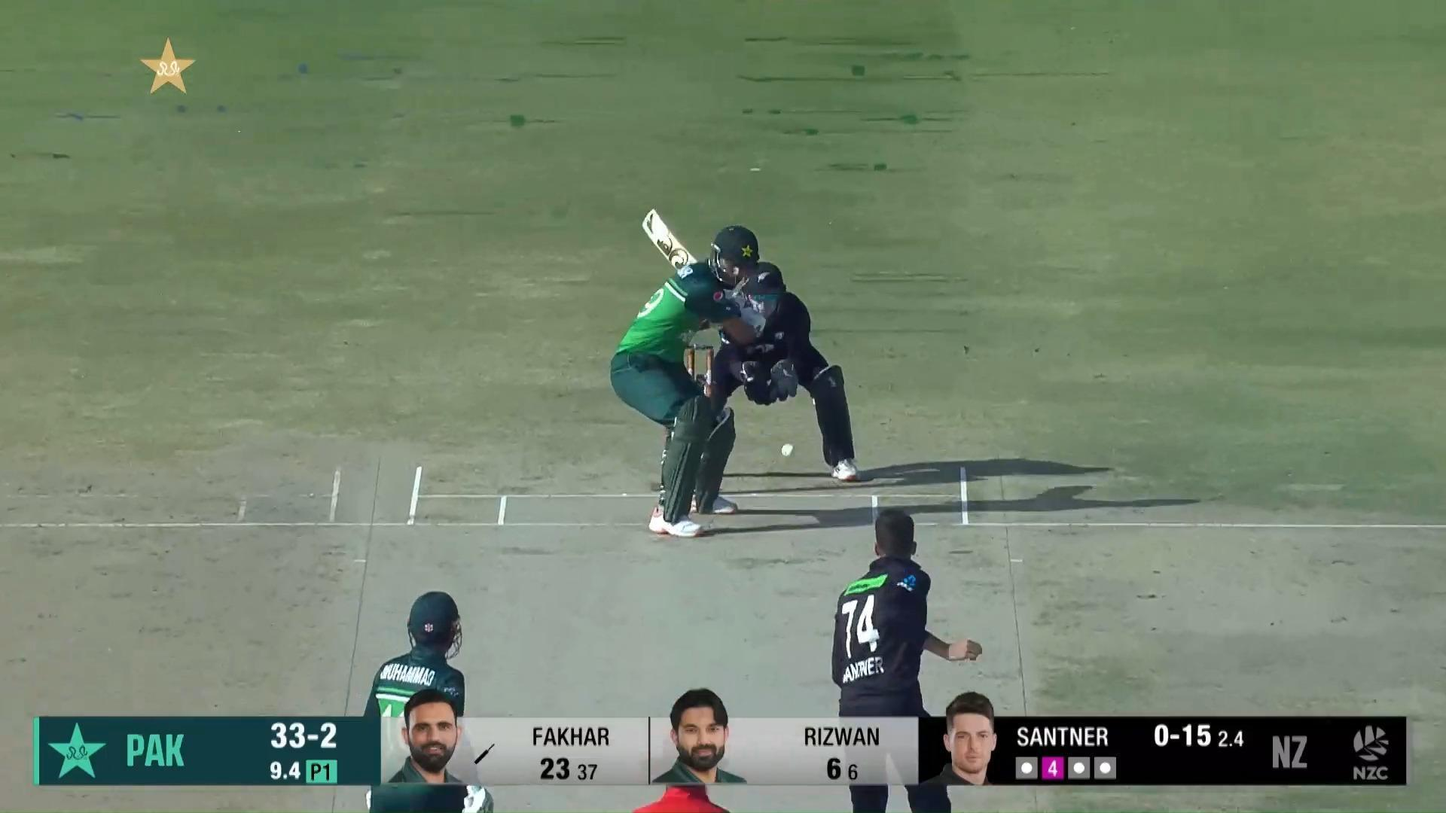BM 1: (610, 207, 758, 538)
BO: (826, 506, 985, 813)
